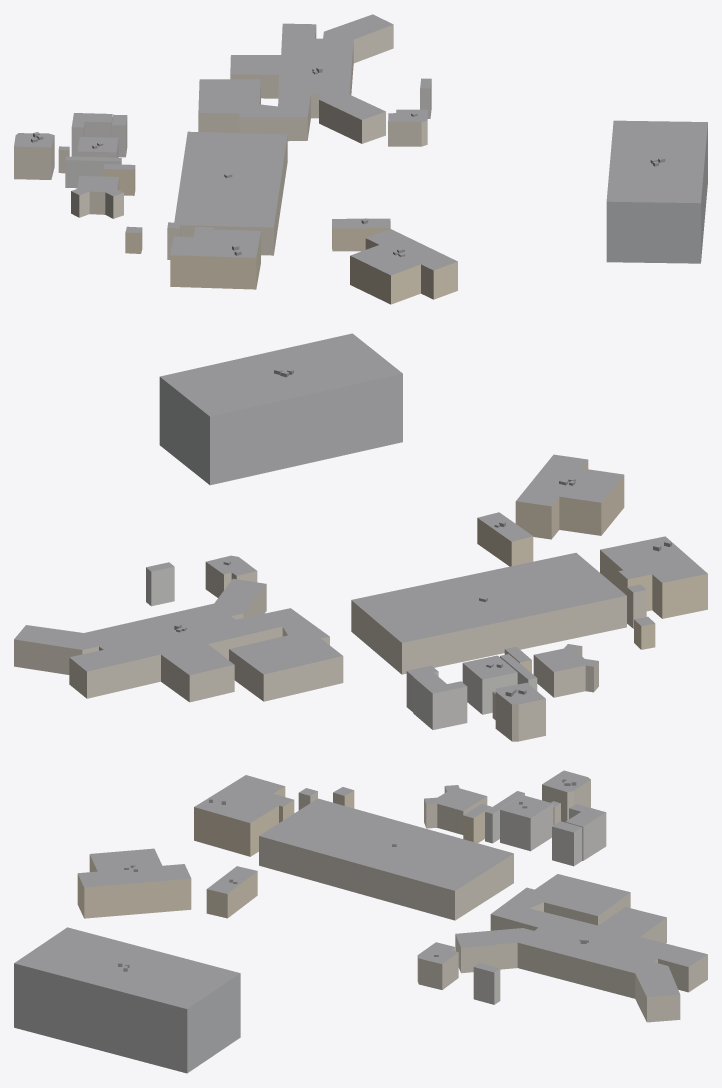
Rendered from building_-3_-5.glb.
3 renders of one model, top to bottom at view 1: azimuth 30°, elevation 25°; view 2: azimuth 150°, elevation 25°; view 3: azimuth 270°, elevation 25°, orthographic. The views are drawn at different scales.
Parts seen in each view (by area): view 1: roof, concrete_warm, sandstone, industrial, concrete_light; view 2: roof, concrete_warm, industrial, sandstone, concrete_light; view 3: roof, concrete_warm, industrial, sandstone, concrete_light.
Boxes of the visible parts, bbox=[...] form: roof: bbox=[14, 14, 707, 275]; concrete_warm: bbox=[14, 24, 427, 259]; sandstone: bbox=[103, 166, 457, 304]; industrial: bbox=[606, 124, 707, 263]; concrete_light: bbox=[65, 80, 431, 188]; roof: bbox=[14, 333, 707, 704]; concrete_warm: bbox=[14, 562, 646, 741]; industrial: bbox=[159, 373, 402, 485]; sandstone: bbox=[477, 460, 707, 672]; concrete_light: bbox=[146, 566, 537, 729]; roof: bbox=[14, 770, 707, 1008]; concrete_warm: bbox=[259, 779, 707, 1022]; industrial: bbox=[14, 963, 240, 1073]; sandstone: bbox=[77, 786, 491, 918]; concrete_light: bbox=[473, 793, 606, 1004].
Bounding box in the file's own units: 258 × 30.23 × 281.
